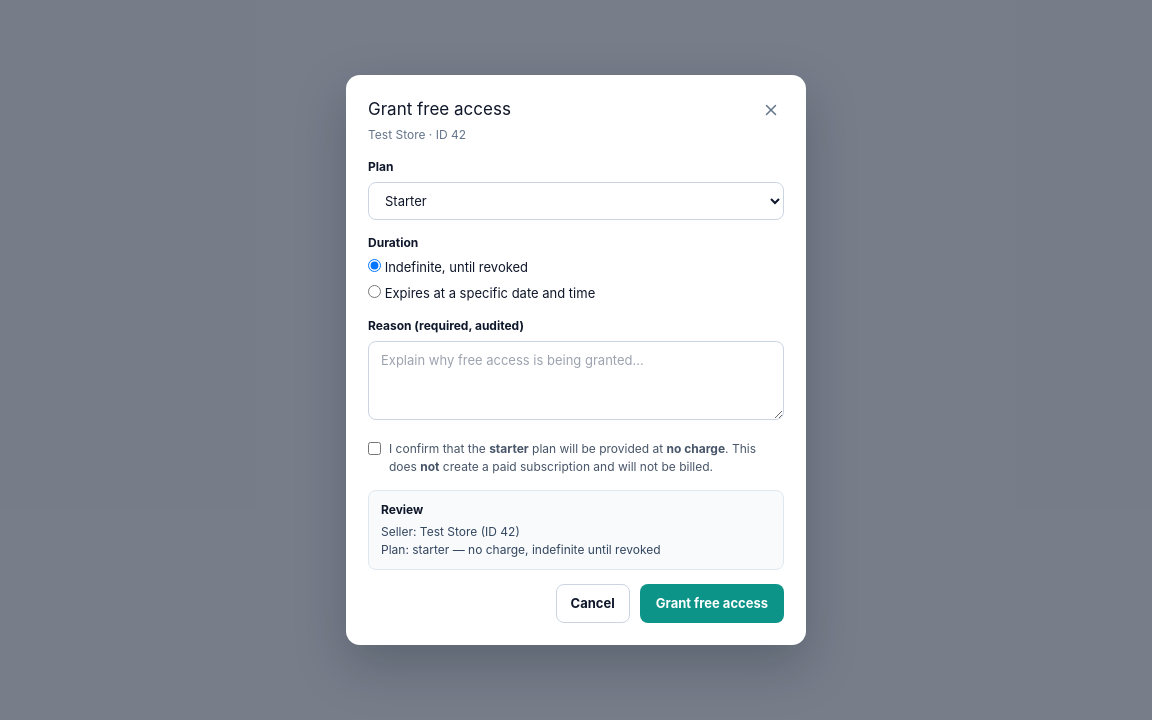
Test: FreeAccessModal validation › blocks an expiration date in the past
This screenshot has width=1152, height=720.
In the text box labelled "Reason (required, audited)": (576, 381) [368,341,784,420], type "Goodwill after incident"
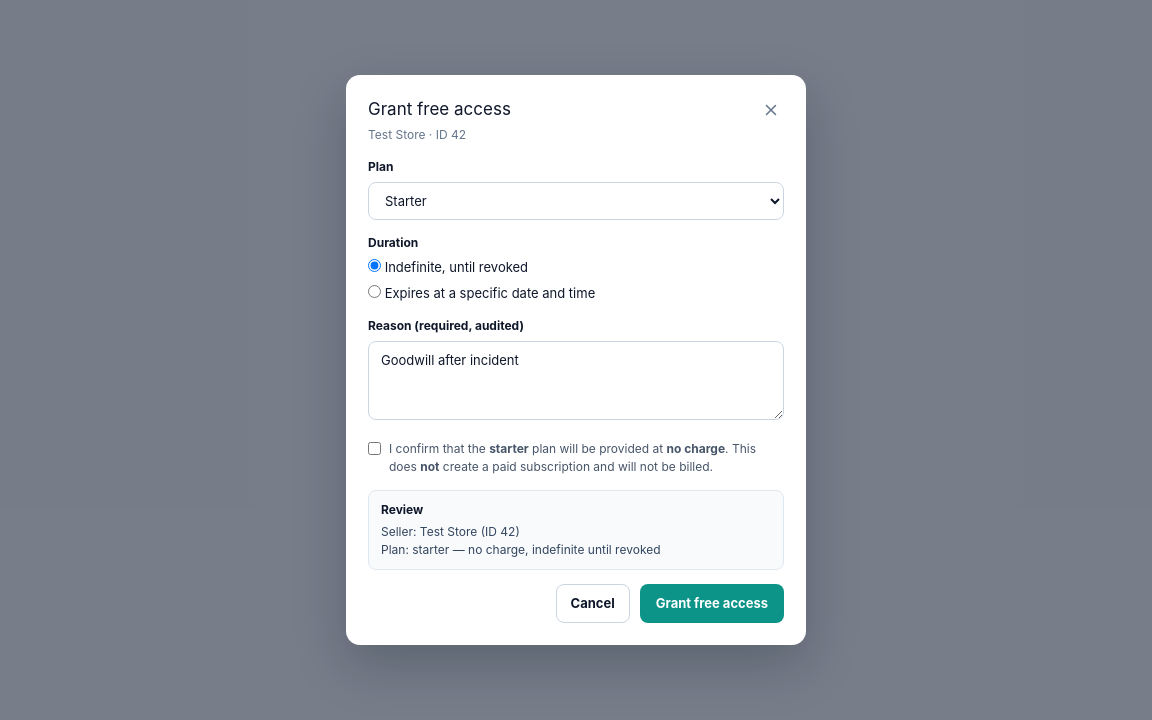
Click the checkbox: (374, 448) [368,442,381,455]
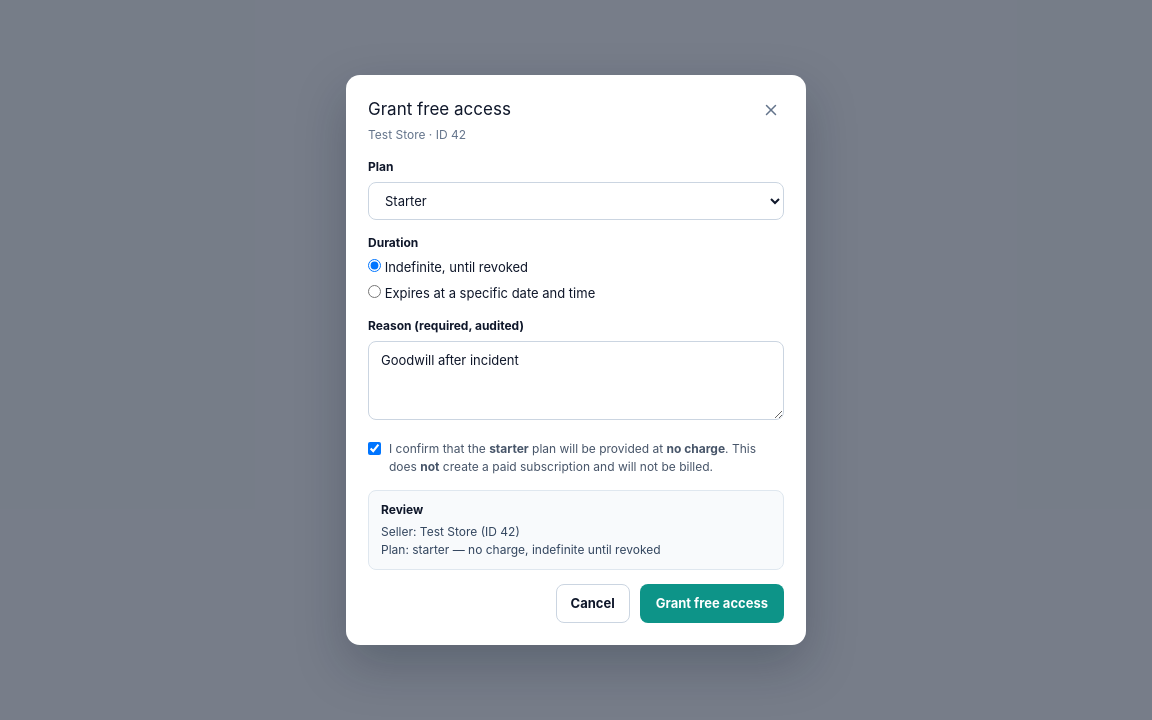
Click the radio button labelled "Expires at a specific date and time": (374, 291) [368,285,381,298]
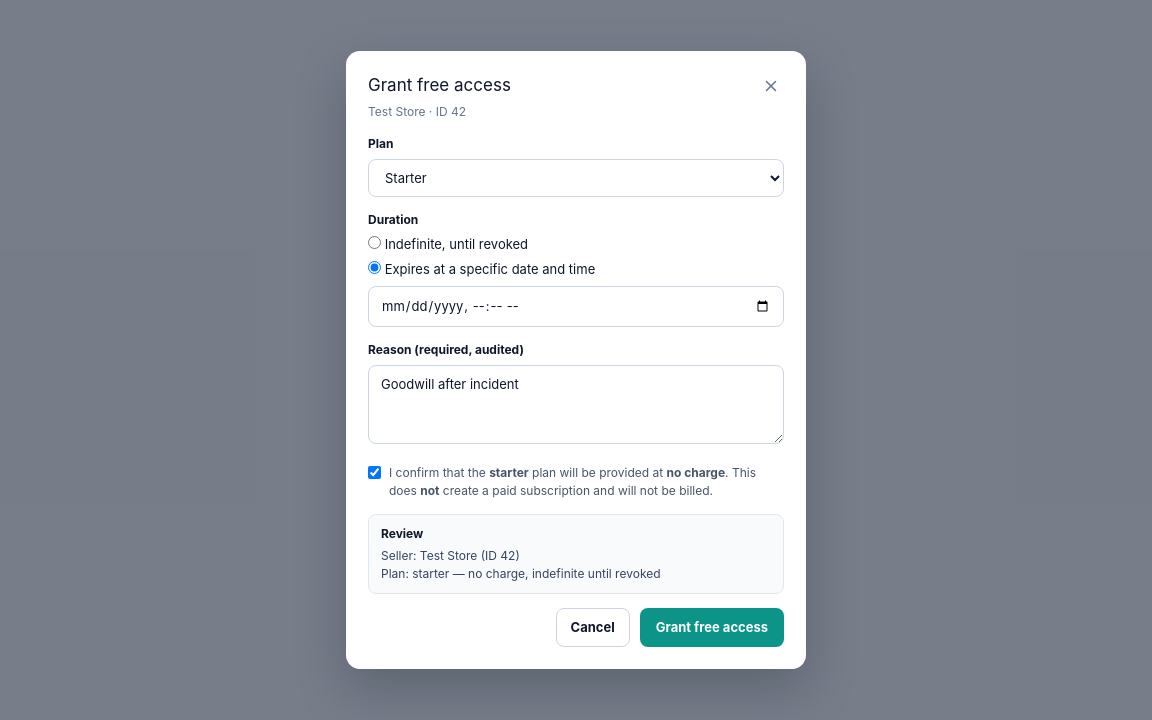
In the field named "Grant expiration": (576, 306) [368,286,784,327], type "2020-01-01T10:00"
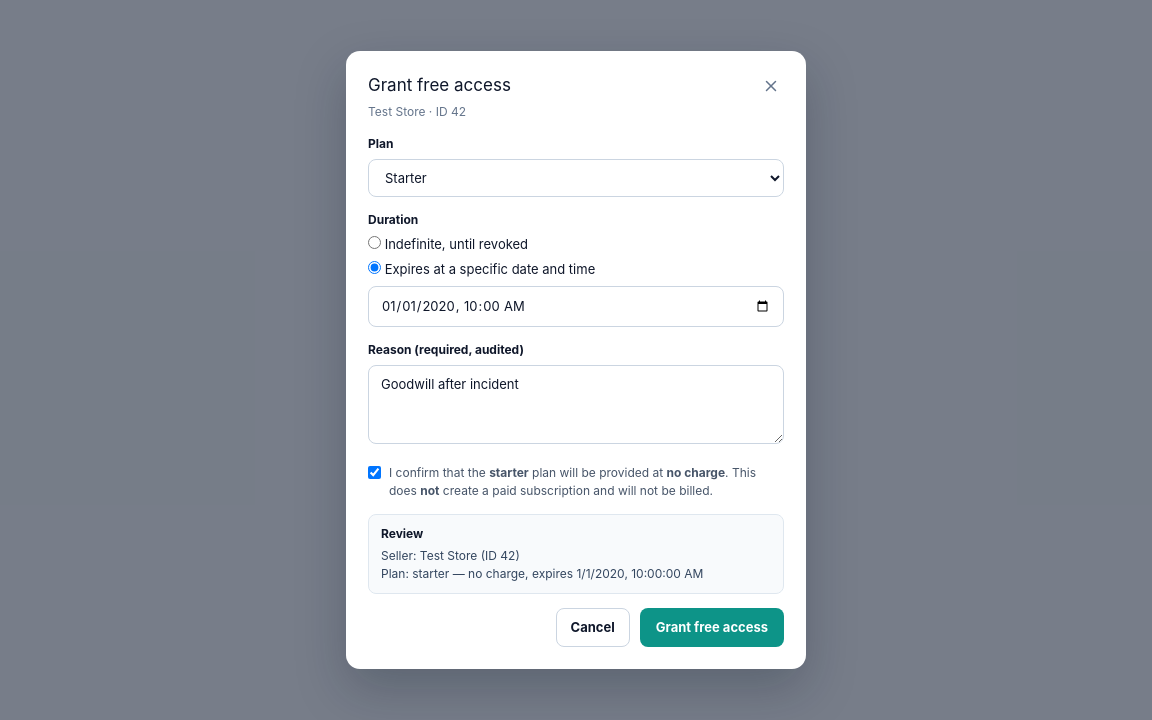
Click the button "Grant free access": (712, 627) [640,608,784,647]
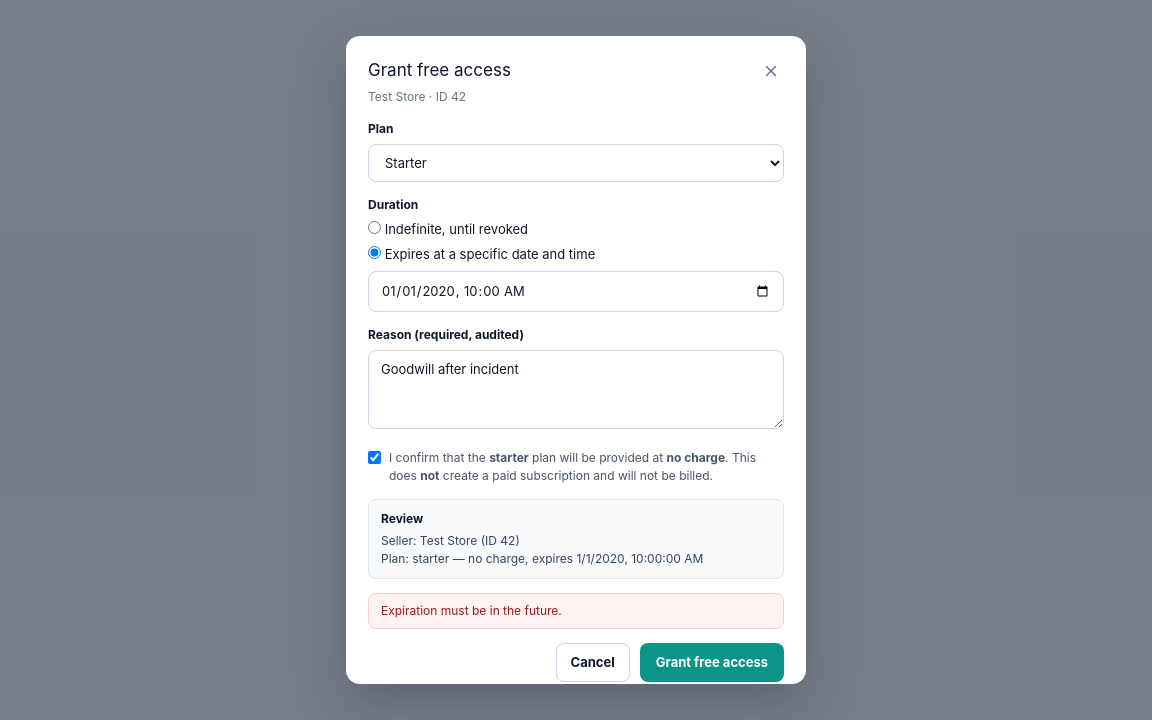
Check: the message shows "Expiration must be in the future", box [381,602,562,618]
